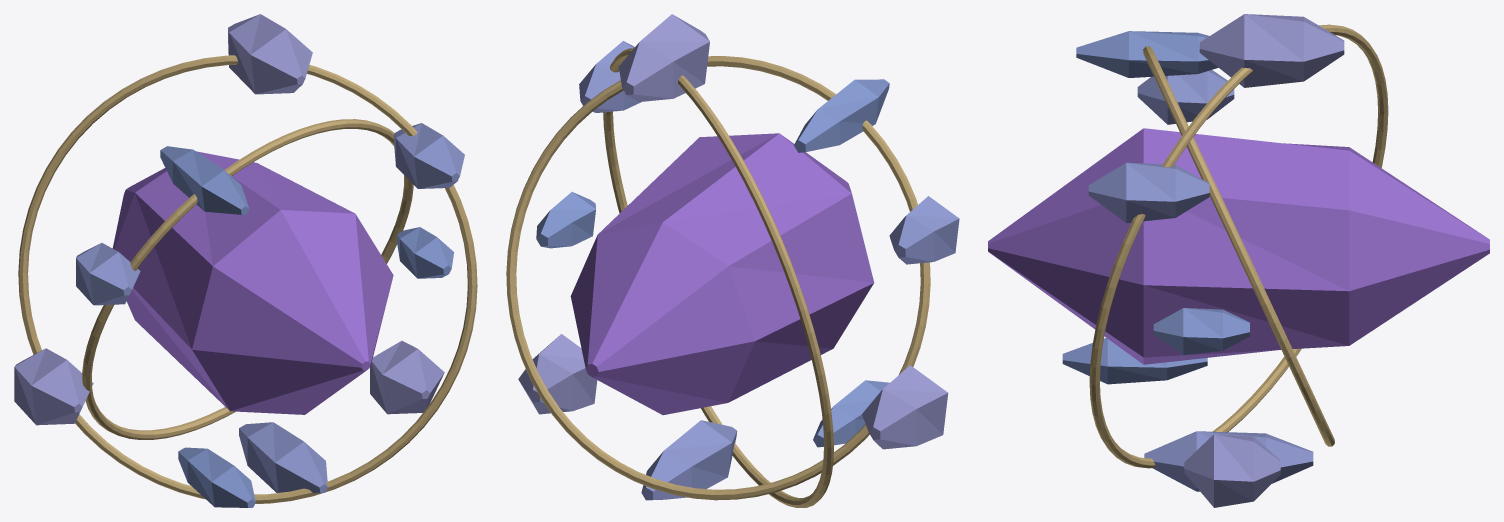
The model's file is Corazon_Arcano.glb.
The picture shows the model from 3 angles, left to right: view 1: azimuth 30°, elevation 25°; view 2: azimuth 150°, elevation 25°; view 3: azimuth 270°, elevation 25°; orthographic projection. The views are drawn at different scales.
Visible parts, largest first — view 1: Core_Amethyst, Gold_Orbit_1, Gold_Orbit_0, FloatingShard_02, FloatingShard_07, FloatingShard_05, FloatingShard_08, FloatingShard_03, FloatingShard_01, FloatingShard_06, FloatingShard_04, FloatingShard_00; view 2: Core_Amethyst, Gold_Orbit_0, Gold_Orbit_1, FloatingShard_02, FloatingShard_05, FloatingShard_07, FloatingShard_03, FloatingShard_08, FloatingShard_04, FloatingShard_00, FloatingShard_06, FloatingShard_01; view 3: Core_Amethyst, FloatingShard_02, Gold_Orbit_1, FloatingShard_01, FloatingShard_08, FloatingShard_03, Gold_Orbit_0, FloatingShard_00, FloatingShard_07, FloatingShard_06, FloatingShard_04.
Part boxes in pixels (bbox=[...]): Core_Amethyst: bbox=[112, 151, 393, 414]; Gold_Orbit_1: bbox=[18, 55, 477, 503]; Gold_Orbit_0: bbox=[82, 119, 413, 439]; FloatingShard_02: bbox=[228, 14, 312, 94]; FloatingShard_07: bbox=[239, 422, 327, 493]; FloatingShard_05: bbox=[14, 348, 93, 425]; FloatingShard_08: bbox=[370, 340, 444, 414]; FloatingShard_03: bbox=[160, 146, 249, 214]; FloatingShard_01: bbox=[394, 123, 464, 188]; FloatingShard_06: bbox=[178, 447, 255, 507]; FloatingShard_04: bbox=[76, 243, 140, 305]; FloatingShard_00: bbox=[397, 227, 454, 278]; Core_Amethyst: bbox=[570, 133, 874, 415]; Gold_Orbit_0: bbox=[506, 56, 930, 500]; Gold_Orbit_1: bbox=[603, 48, 833, 507]; FloatingShard_02: bbox=[618, 14, 709, 101]; FloatingShard_05: bbox=[862, 365, 948, 449]; FloatingShard_07: bbox=[641, 420, 737, 500]; FloatingShard_03: bbox=[794, 79, 889, 152]; FloatingShard_08: bbox=[518, 334, 597, 414]; FloatingShard_04: bbox=[889, 196, 959, 264]; FloatingShard_00: bbox=[536, 192, 595, 248]; FloatingShard_06: bbox=[813, 380, 889, 447]; FloatingShard_01: bbox=[579, 41, 641, 112]; Core_Amethyst: bbox=[988, 128, 1489, 364]; FloatingShard_02: bbox=[1199, 14, 1344, 87]; Gold_Orbit_1: bbox=[1089, 24, 1388, 468]; FloatingShard_01: bbox=[1088, 162, 1209, 222]; FloatingShard_08: bbox=[1184, 434, 1280, 507]; FloatingShard_03: bbox=[1076, 31, 1218, 77]; Gold_Orbit_0: bbox=[1143, 46, 1334, 446]; FloatingShard_00: bbox=[1153, 308, 1249, 354]; FloatingShard_07: bbox=[1144, 431, 1313, 491]; FloatingShard_06: bbox=[1062, 338, 1207, 384]; FloatingShard_04: bbox=[1137, 70, 1234, 124].
Bounding box in the file's own units: 2.65 × 2.83 × 2.7.
